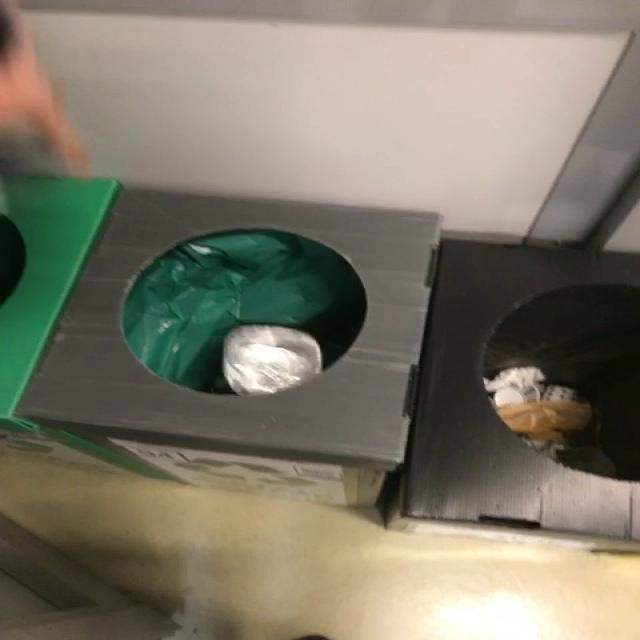bin: (19, 189, 640, 540)
metal: (223, 325, 321, 396)
